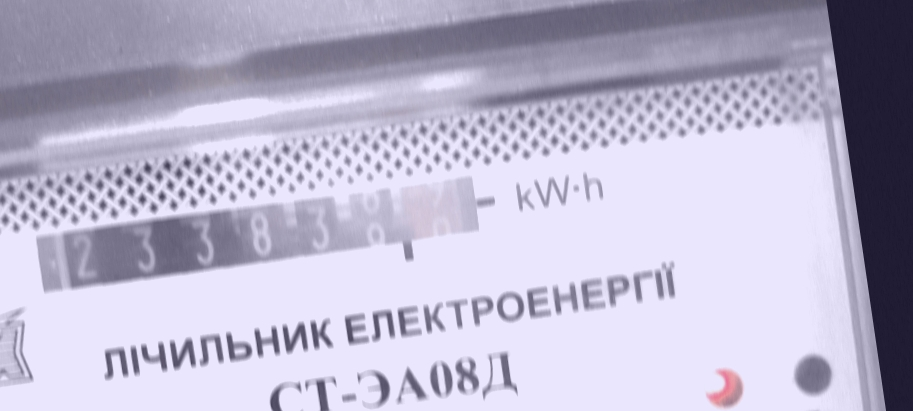0: (425, 211, 454, 239)
2: (65, 229, 99, 281)
3: (126, 222, 159, 275), (187, 216, 218, 269), (301, 201, 333, 252)
8: (243, 209, 274, 257), (354, 186, 385, 216)
9: (358, 217, 389, 249), (420, 176, 448, 208)
screen: (19, 158, 500, 317)
